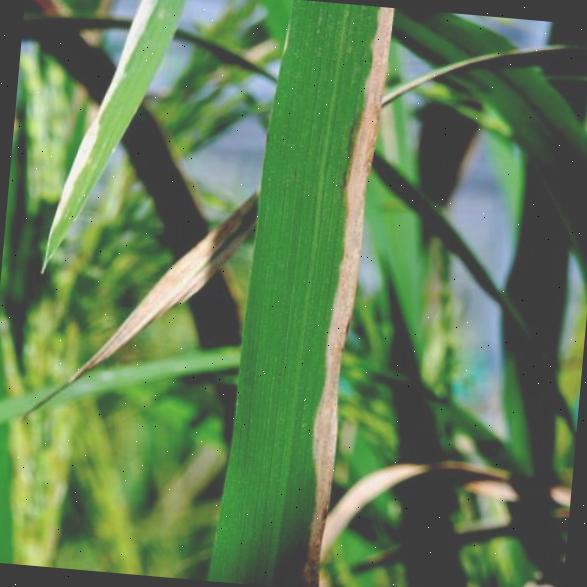Bacteria_Leaf_Blight: (295, 7, 394, 579)
